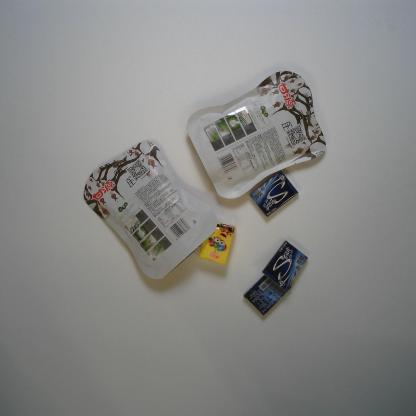Dried Fruit: (83, 140, 217, 279), (185, 70, 327, 200)
Gum: (250, 170, 299, 218), (263, 240, 308, 290), (244, 272, 292, 316)
Tissue: (198, 222, 235, 266)
